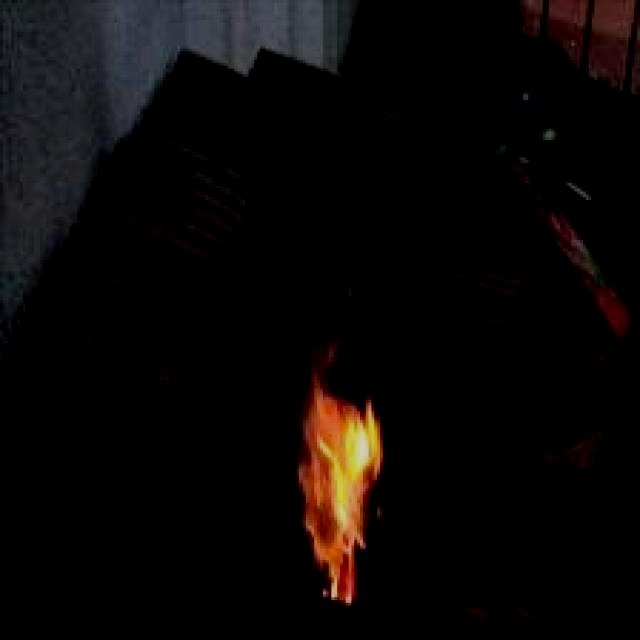fire: (239, 372, 397, 623)
